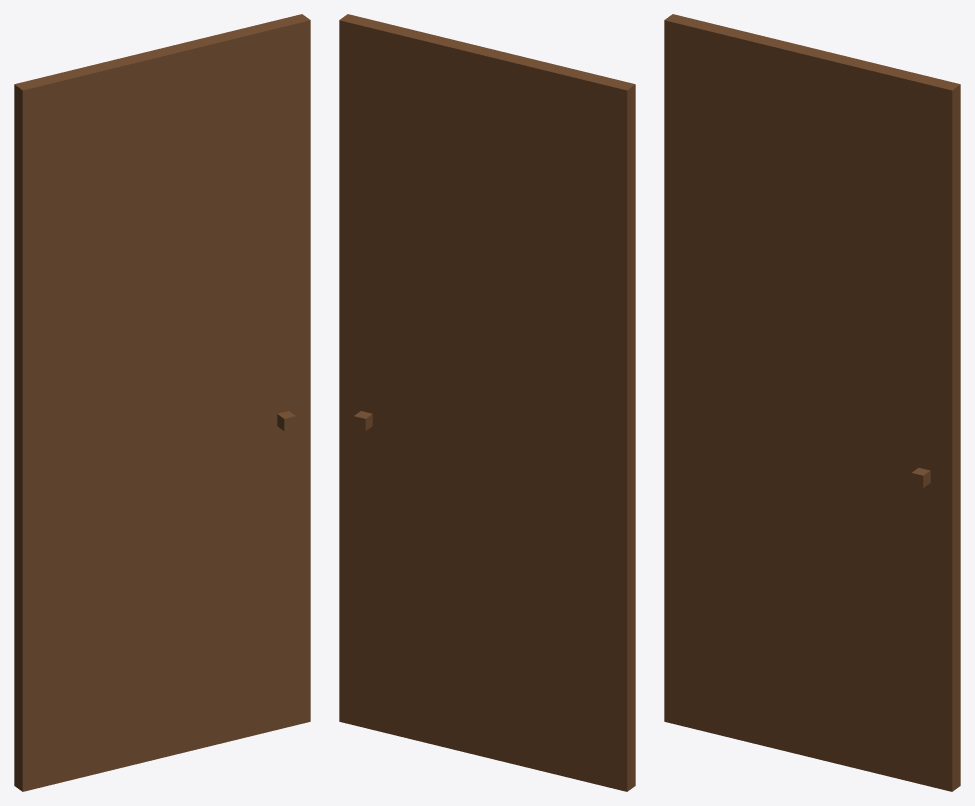
The model's file is door-pantry.glb.
3 views of the same model, side by side, from view 1: azimuth 30°, elevation 25°; view 2: azimuth 150°, elevation 25°; view 3: azimuth 330°, elevation 25° (orthographic).
Parts seen in each view (by area): view 1: door-pantry; view 2: door-pantry; view 3: door-pantry.
Part boxes in pixels (x1,y1,x2,y2): door-pantry: [14, 14, 310, 791]; door-pantry: [339, 14, 635, 791]; door-pantry: [664, 14, 960, 791].
Size of the model in its own units: 2.92 by 6.79 by 0.4.
